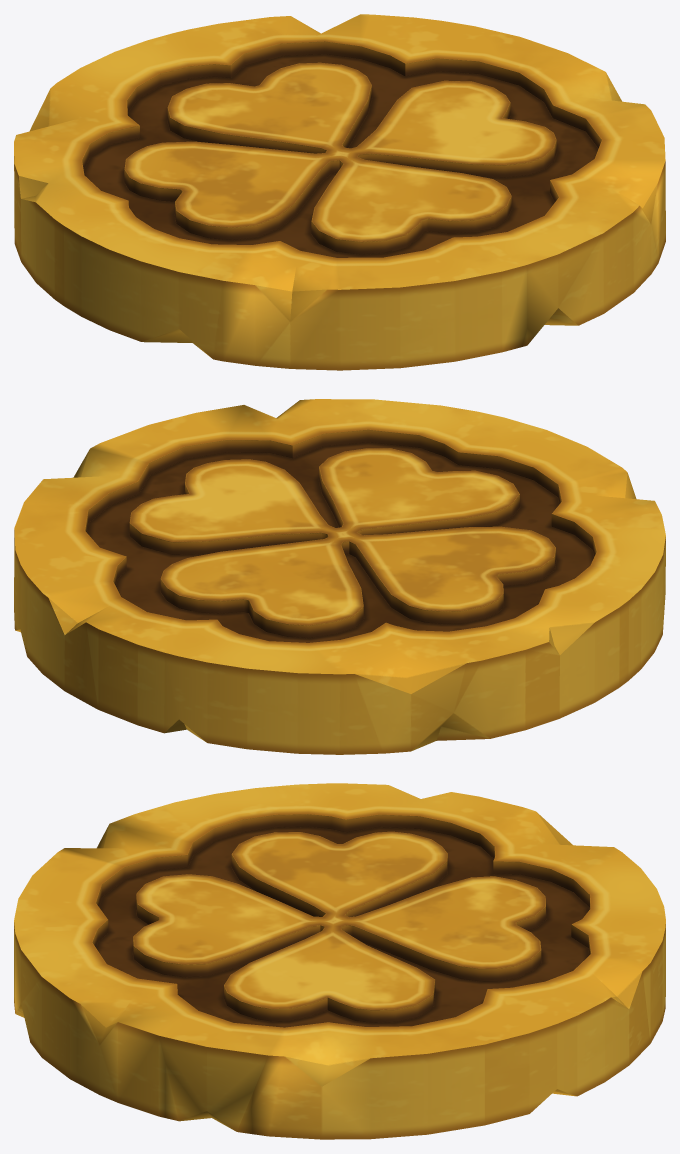
The model's file is Live_or_Die_Coin.fbx.
3 renders of one model, top to bottom at view 1: azimuth 30°, elevation 25°; view 2: azimuth 150°, elevation 25°; view 3: azimuth 270°, elevation 25°, orthographic.
Parts seen in each view (by area): view 1: Live_or_Die_Coin; view 2: Live_or_Die_Coin; view 3: Live_or_Die_Coin.
Boxes of the visible parts, box(x1,y1,x2,y2) form: Live_or_Die_Coin: box(14, 14, 665, 370); Live_or_Die_Coin: box(14, 399, 665, 754); Live_or_Die_Coin: box(14, 783, 665, 1139).
Bounding box in the file's own units: 137 × 18.68 × 137.
